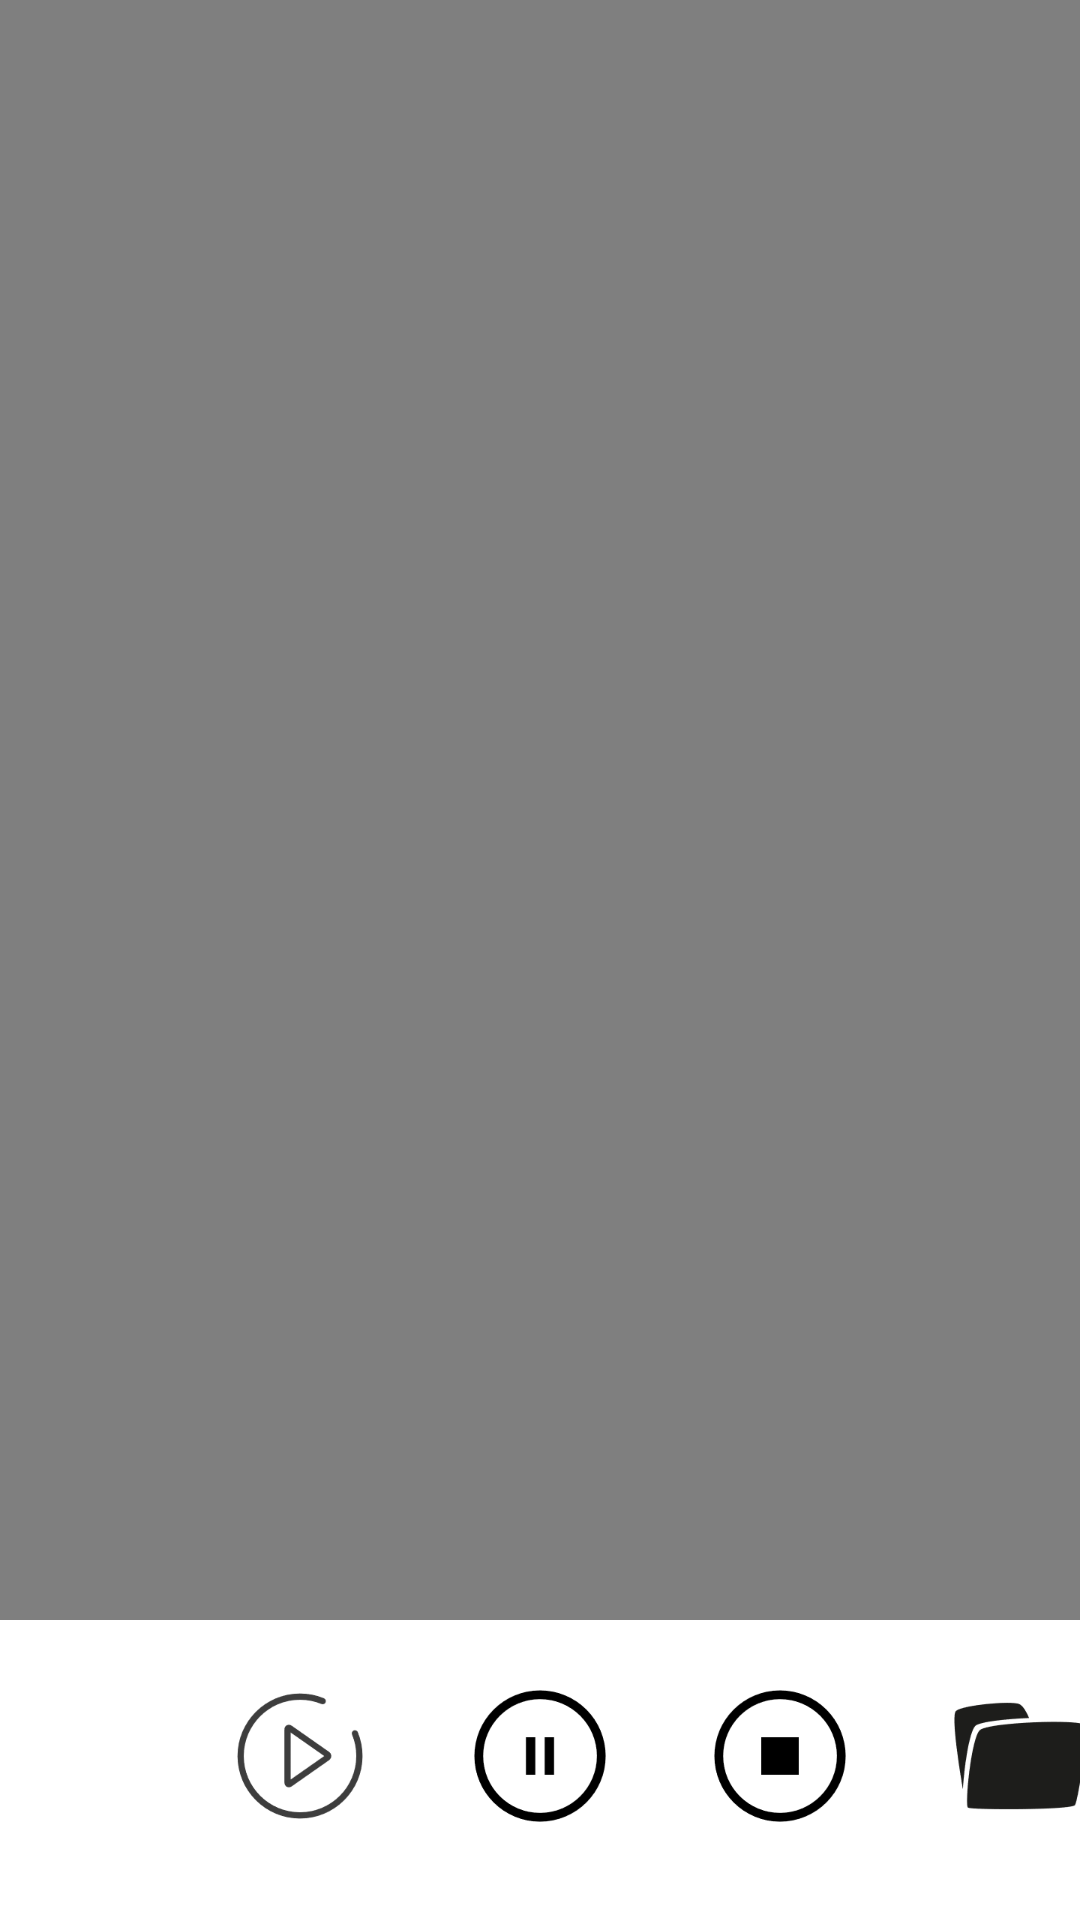

Named icons in this screenshot (1080*1920) and their bounding boxes, Rect(x1, y1, x2, y2):
pause: Rect(474, 1690, 606, 1822)
play: Rect(237, 1693, 363, 1819)
